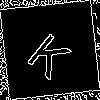K: (25, 25, 80, 81)
